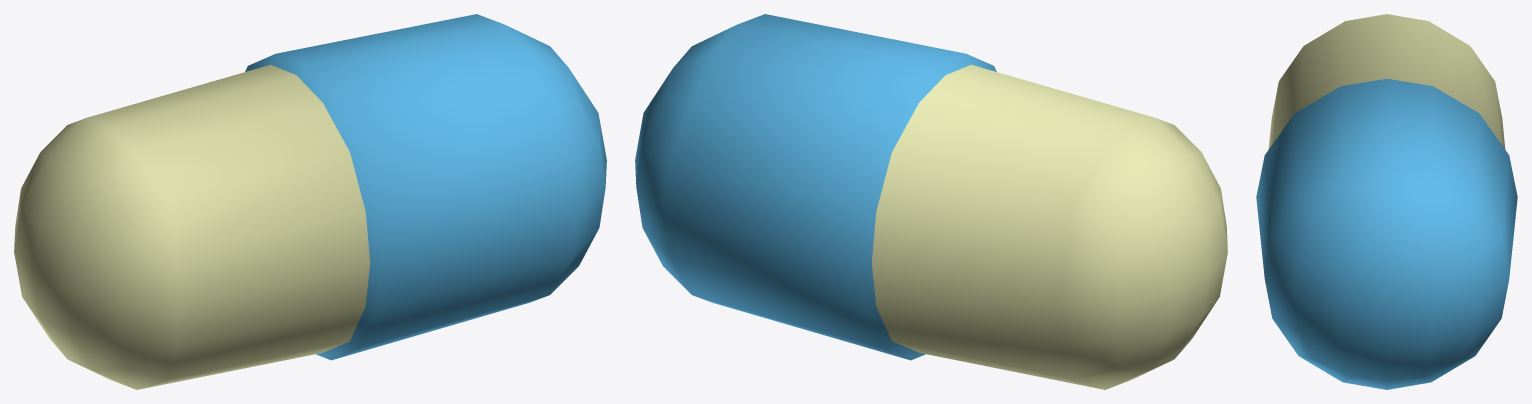
The model's file is Pill.fbx.
3 renders of one model, left to right at view 1: azimuth 30°, elevation 25°; view 2: azimuth 150°, elevation 25°; view 3: azimuth 270°, elevation 25°, orthographic. The views are drawn at different scales.
Visible parts, largest first — view 1: Roundcube; view 2: Roundcube; view 3: Roundcube.
Part boxes in pixels (bbox=[...]): Roundcube: bbox=[14, 14, 606, 389]; Roundcube: bbox=[635, 14, 1227, 389]; Roundcube: bbox=[1256, 14, 1517, 389].
Size of the model in its own units: 0.2552 by 0.125 by 0.125.
